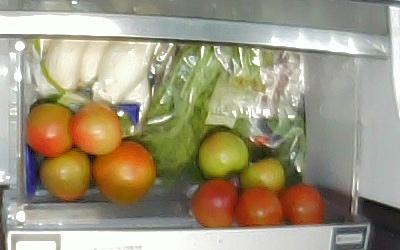tomato: (94, 141, 155, 203), (67, 102, 122, 155), (39, 147, 92, 202), (27, 102, 75, 157), (197, 131, 250, 179), (191, 180, 237, 227), (281, 182, 325, 224), (236, 188, 282, 225), (240, 156, 285, 193)
